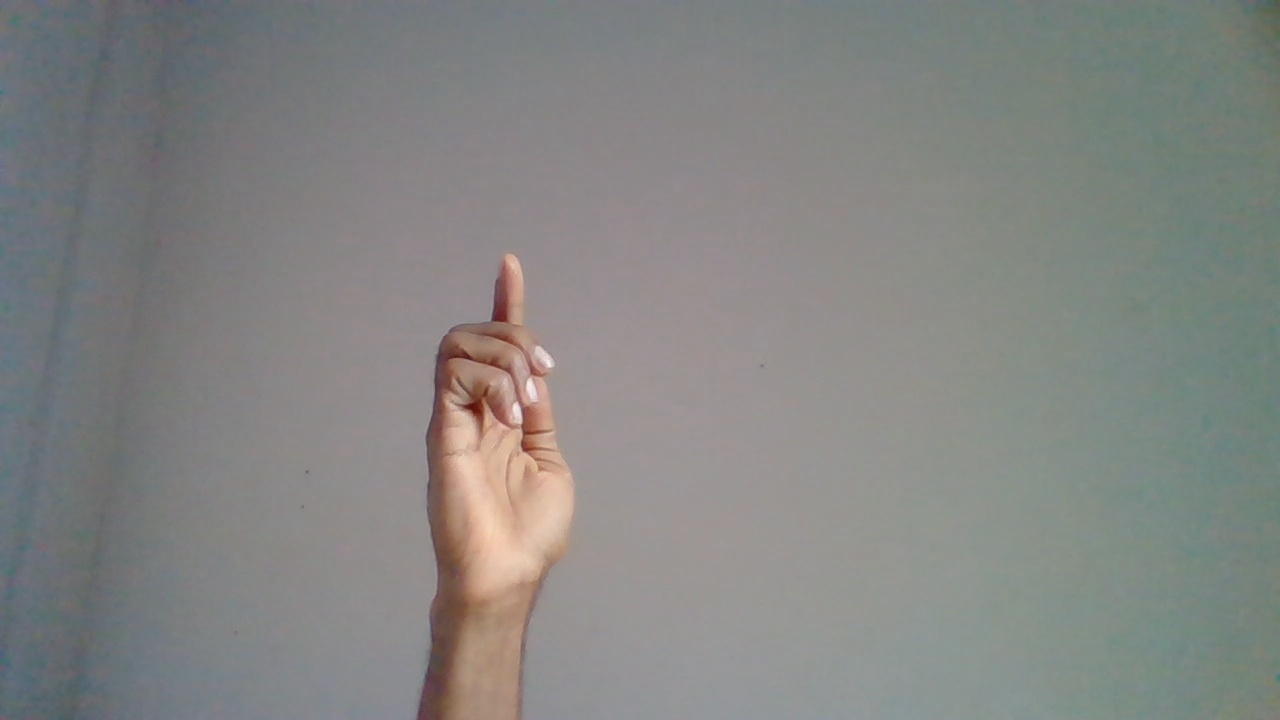qe: (421, 252, 584, 679)
